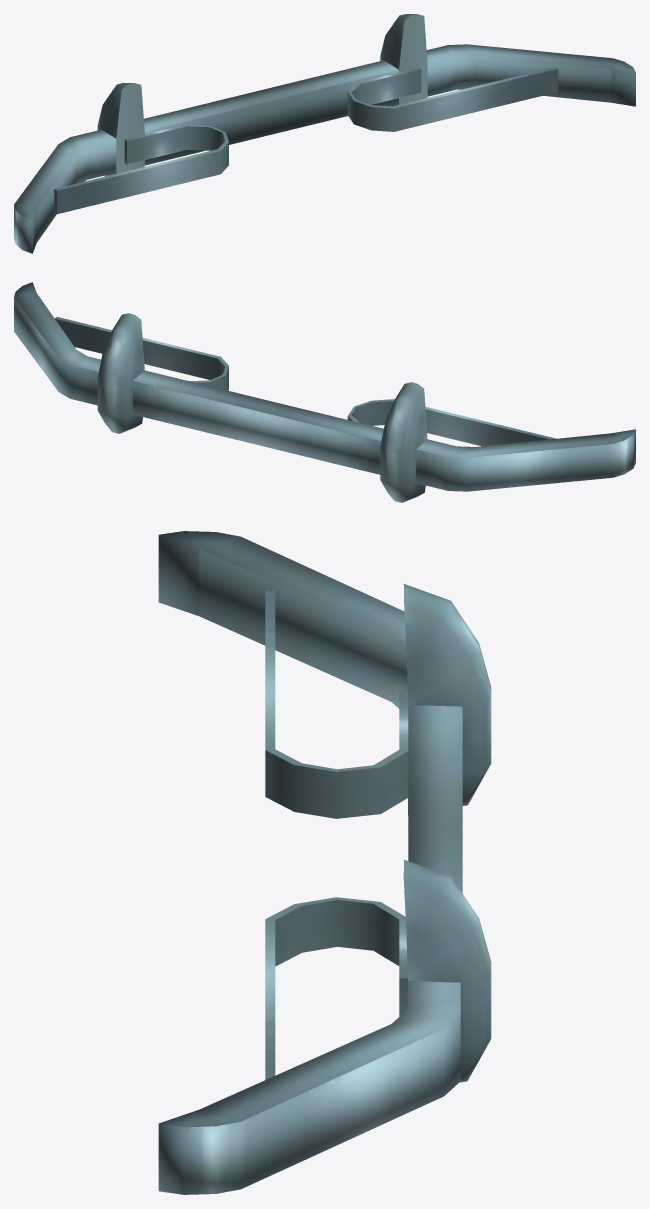
The model's file is bumper_f.fbx.
The picture shows the model from 3 angles, top to bottom: view 1: azimuth 30°, elevation 25°; view 2: azimuth 150°, elevation 25°; view 3: azimuth 270°, elevation 25°; orthographic projection. The views are drawn at different scales.
Parts seen in each view (by area): view 1: bumper_f; view 2: bumper_f; view 3: bumper_f.
Part boxes in pixels (left/top/right/bottom): bumper_f: left=14, top=14, right=635, bottom=253; bumper_f: left=14, top=282, right=635, bottom=502; bumper_f: left=158, top=531, right=491, bottom=1194.
Bounding box in the file's own units: 1.37 × 0.2416 × 0.324.
